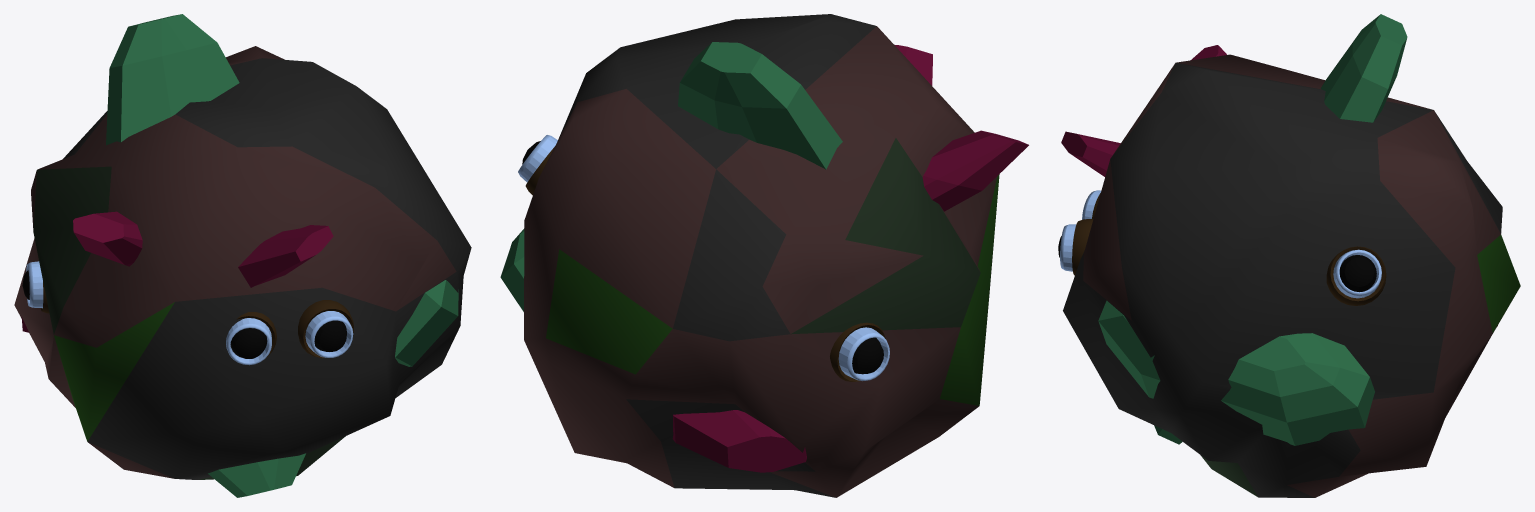
The model's file is Orby.FBX.
3 renders of one model, left to right at view 1: azimuth 30°, elevation 25°; view 2: azimuth 150°, elevation 25°; view 3: azimuth 270°, elevation 25°, orthographic. The views are drawn at different scales.
Visible parts, largest first — view 1: GeoSphere001, Backcrystal M, Backcrystal R, Backcrystal M001, SC R02, eye01, eye004, eye02; view 2: GeoSphere001, Backcrystal M, Backcrystal L, SC R02, eye02, Backcrystal M001, eye03, Backcrystal R; view 3: GeoSphere001, Backcrystal M001, Backcrystal M, eye03, Backcrystal R, eye01.
Boxes of the visible parts, <box> form: GeoSphere001: <box>14,46,471,479</box>; Backcrystal M: <box>106,14,305,497</box>; Backcrystal R: <box>238,225,333,287</box>; Backcrystal M001: <box>395,280,458,366</box>; SC R02: <box>73,211,142,266</box>; eye01: <box>298,300,353,358</box>; eye004: <box>226,312,276,365</box>; eye02: <box>22,261,49,313</box>; GeoSphere001: <box>524,14,999,497</box>; Backcrystal M: <box>678,42,842,169</box>; Backcrystal L: <box>672,410,806,472</box>; SC R02: <box>922,130,1028,211</box>; eye02: <box>830,322,889,381</box>; Backcrystal M001: <box>500,228,524,311</box>; eye03: <box>518,135,557,195</box>; Backcrystal R: <box>894,44,932,85</box>; GeoSphere001: <box>1063,54,1520,497</box>; Backcrystal M001: <box>1098,300,1374,445</box>; Backcrystal M: <box>1154,14,1407,444</box>; eye03: <box>1326,246,1386,305</box>; Backcrystal R: <box>1061,131,1120,176</box>; eye01: <box>1058,219,1093,275</box>.
Bounding box in the file's own units: 4.71 × 4.64 × 4.82.
